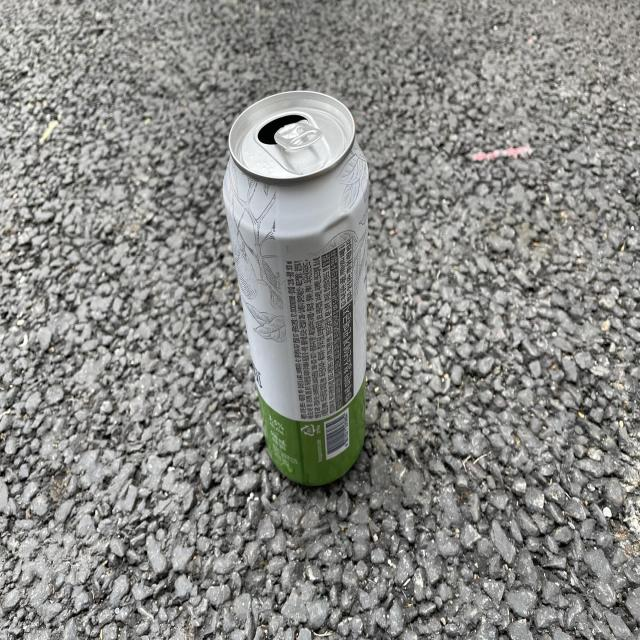can: (223, 90, 369, 486)
